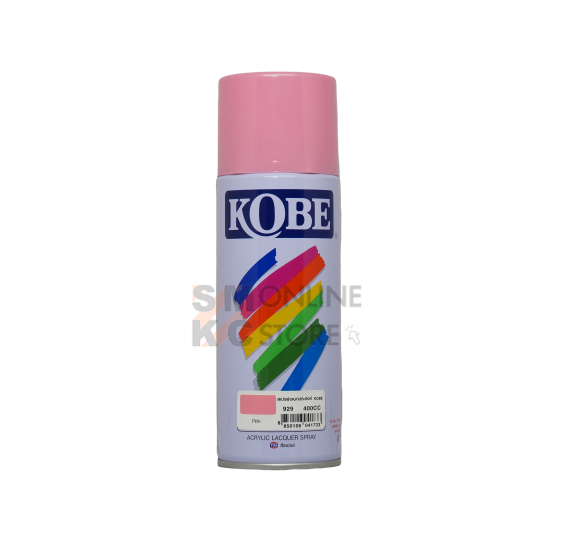Aerosol_cans: (211, 69, 348, 474)
